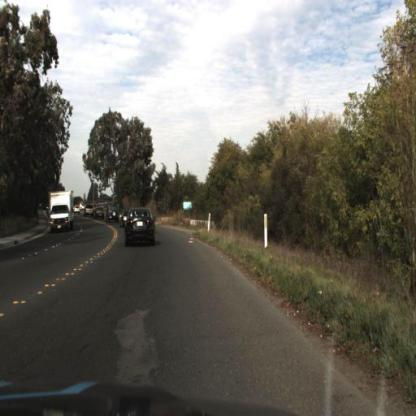car: (122, 205, 156, 250), (103, 199, 120, 226), (91, 201, 108, 222), (80, 198, 94, 222), (118, 204, 129, 230)
truck: (44, 184, 78, 239), (48, 191, 75, 227)
